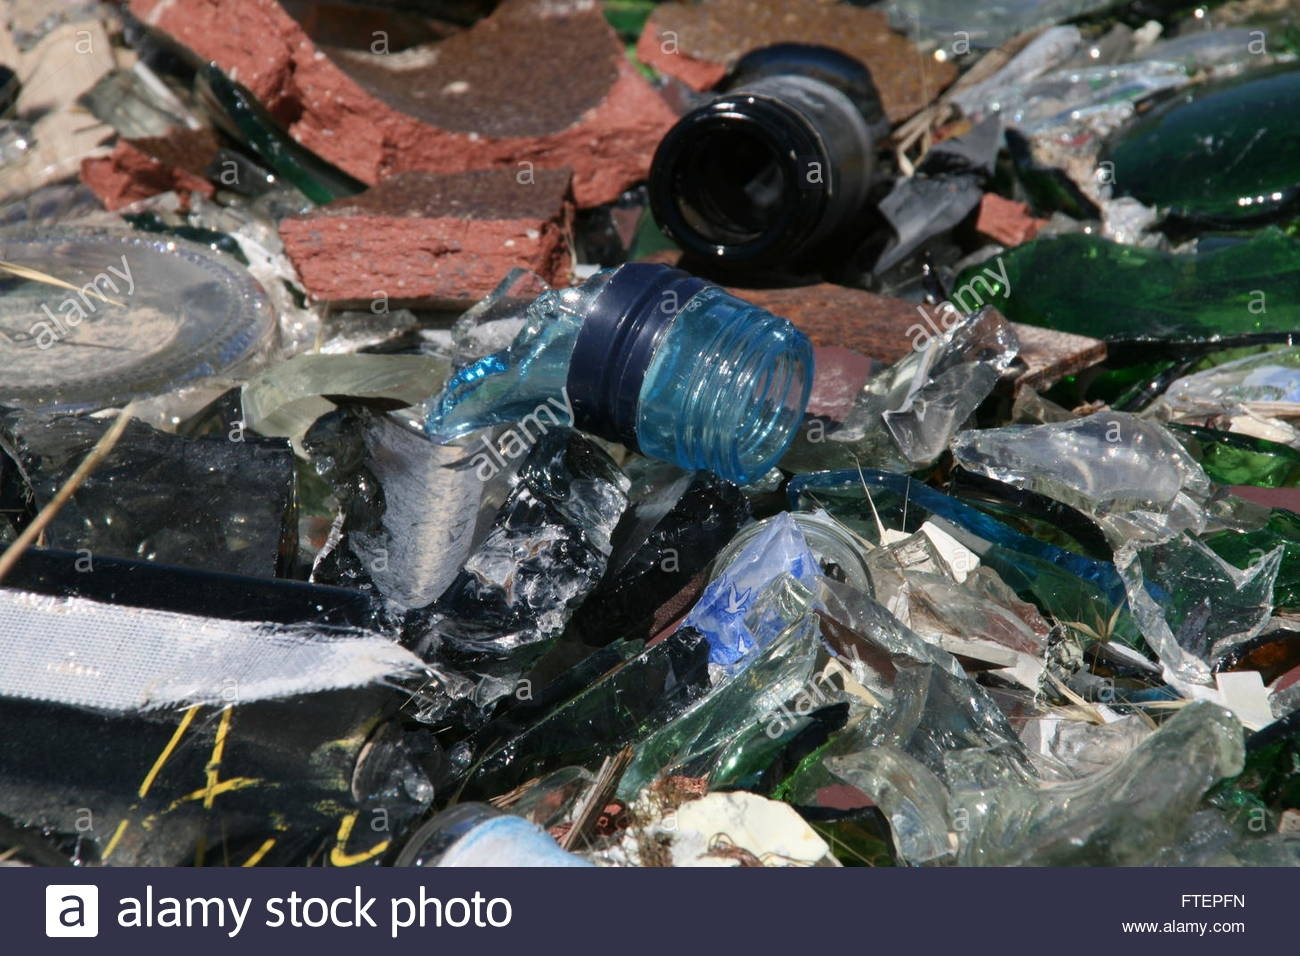glass: (773, 556, 1252, 870), (287, 393, 626, 830), (424, 220, 825, 498), (940, 54, 1300, 229), (1, 223, 298, 427), (944, 214, 1300, 357), (640, 66, 894, 265), (950, 396, 1221, 551), (1092, 502, 1299, 686), (583, 459, 751, 661), (851, 307, 1033, 470), (193, 64, 384, 215)
paper: (1, 580, 412, 728)
plastic: (689, 510, 830, 673)
